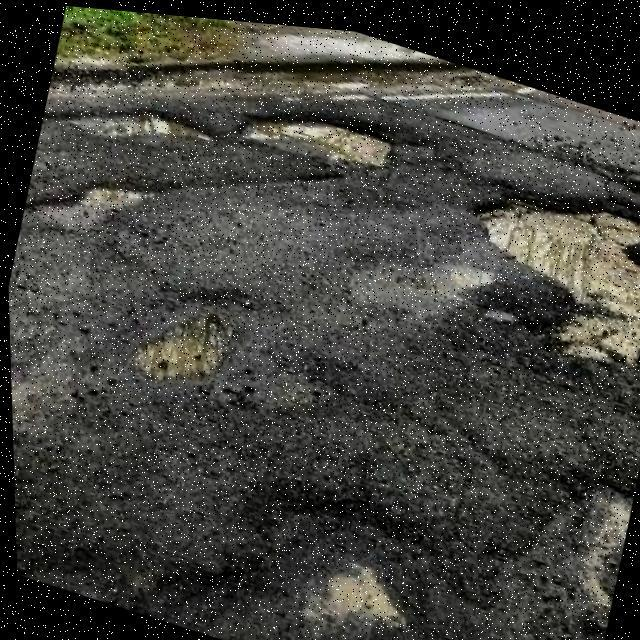pothole: (9, 372, 549, 640), (441, 146, 640, 378), (453, 422, 640, 640), (40, 70, 222, 174), (231, 78, 398, 182), (121, 280, 238, 400), (596, 144, 640, 212)
